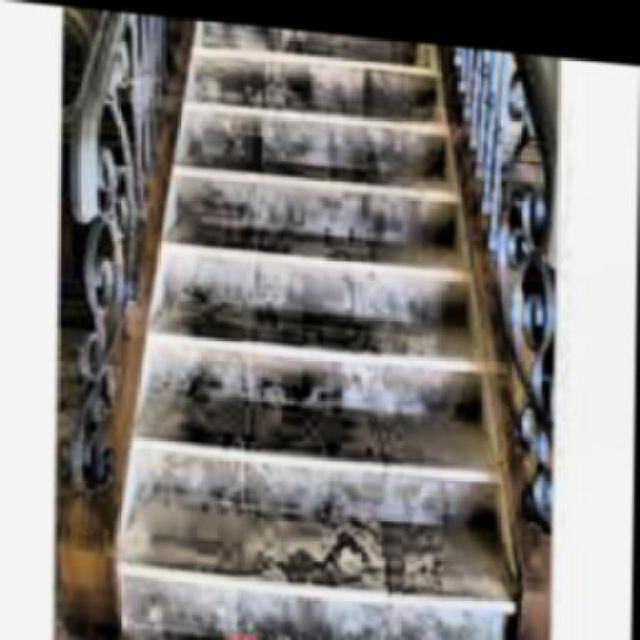stair: (132, 23, 551, 639)
